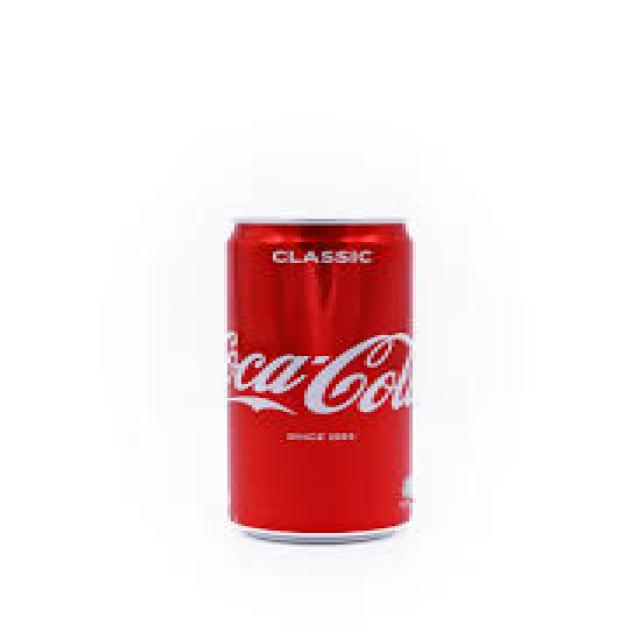Cans: (203, 204, 437, 552)
